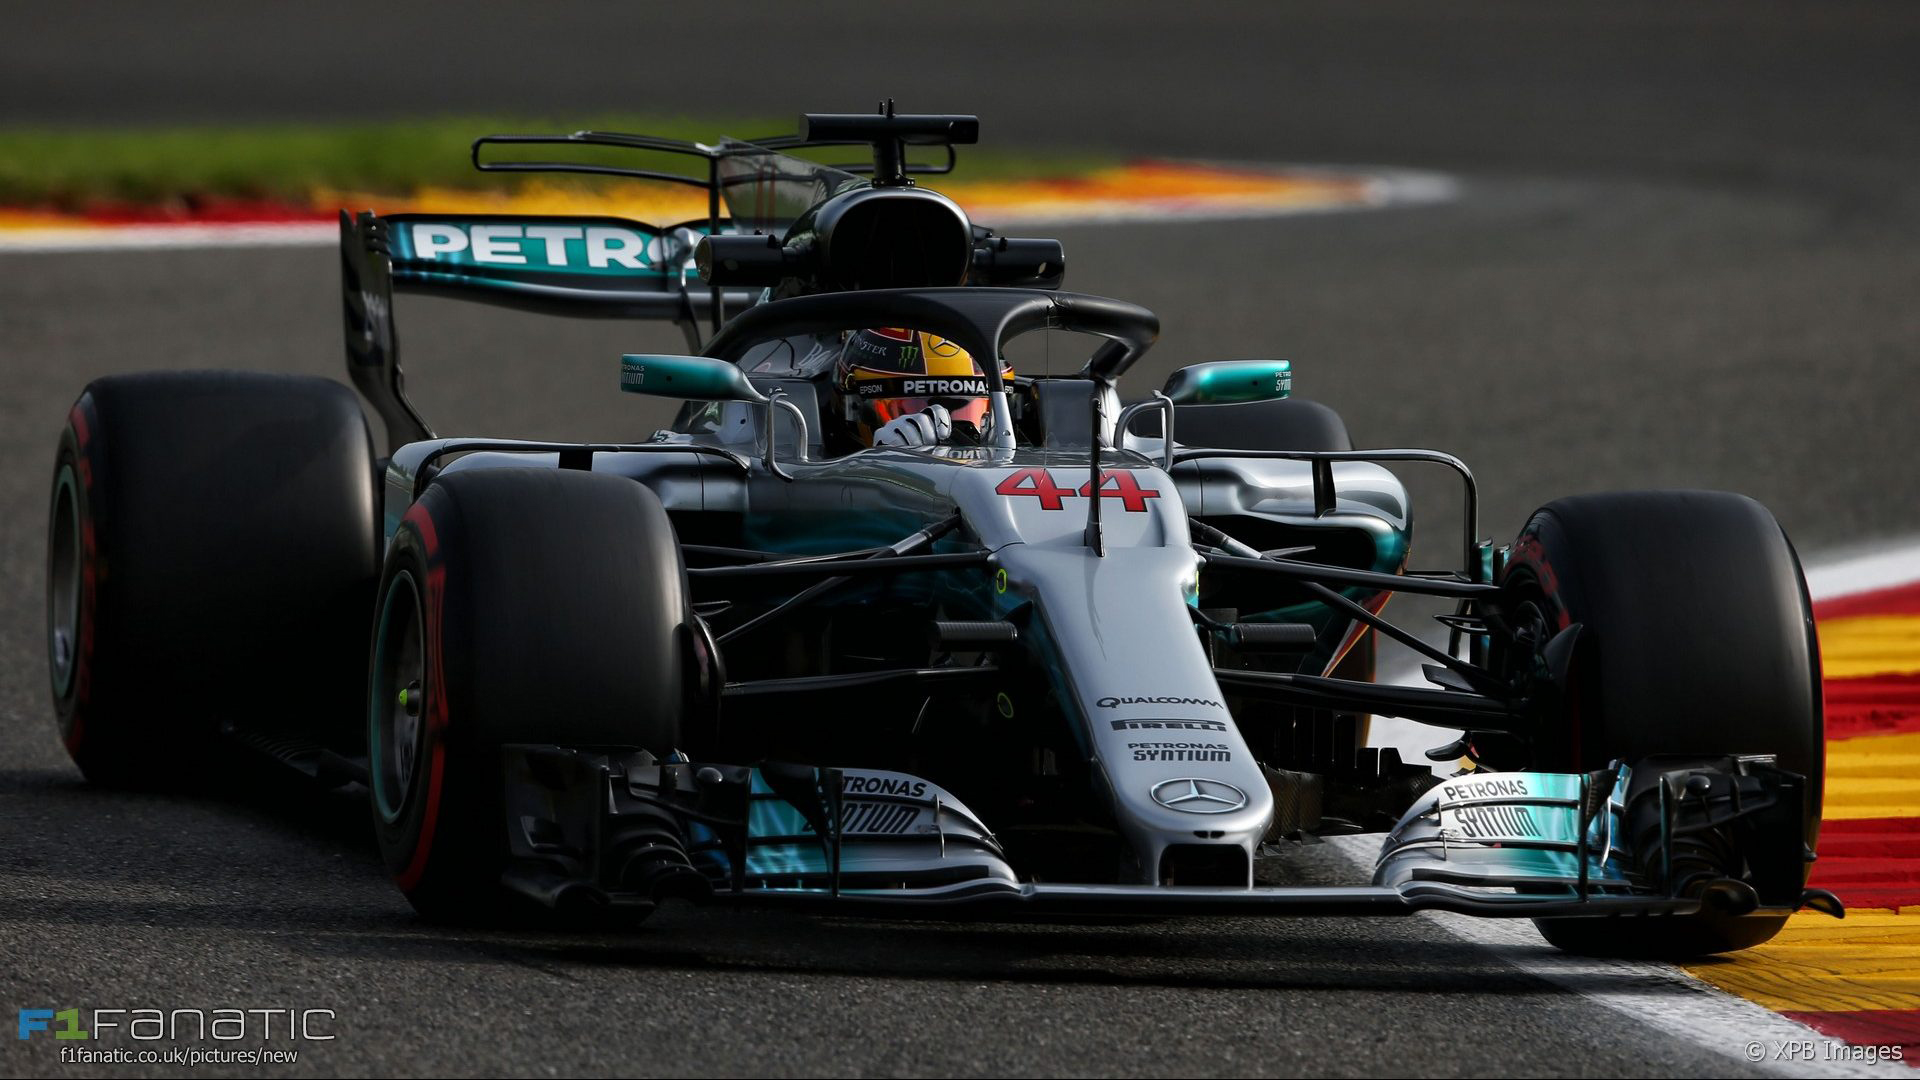F1 Car: (29, 98, 1840, 1004)
